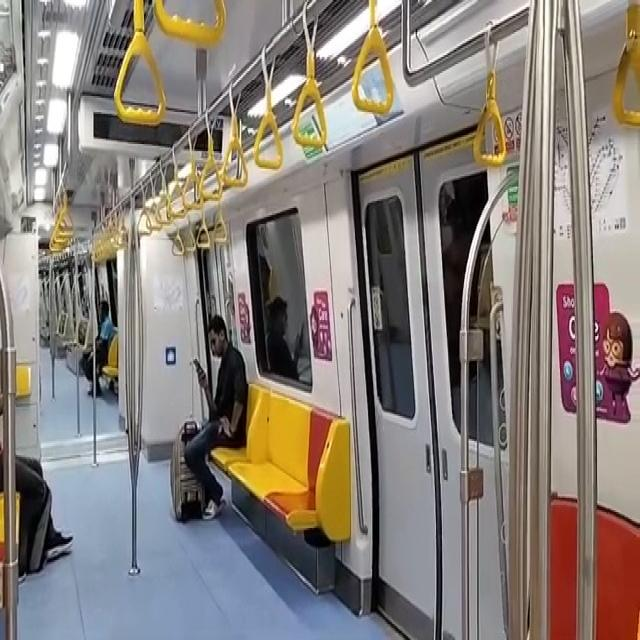bus-door: (359, 136, 489, 637), (470, 224, 501, 637)
